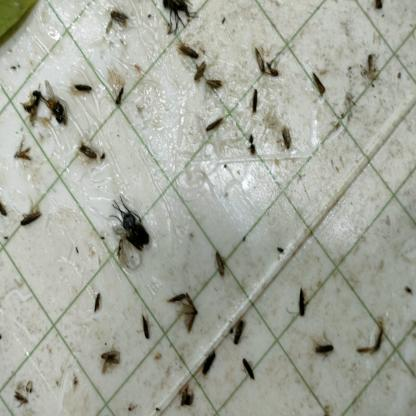prays_oleae: (95, 340, 133, 390), (41, 77, 68, 138), (162, 1, 205, 32), (14, 76, 43, 117), (364, 323, 393, 364), (181, 292, 202, 333), (168, 381, 196, 410), (78, 138, 102, 171), (73, 72, 95, 106), (137, 310, 155, 348), (203, 114, 231, 136), (110, 74, 126, 112), (312, 340, 337, 364), (311, 68, 328, 102), (108, 9, 133, 32), (11, 142, 33, 166), (20, 211, 46, 231), (294, 290, 312, 318), (180, 38, 200, 63), (214, 250, 229, 283), (276, 127, 291, 160), (206, 72, 225, 98), (230, 317, 246, 347), (167, 284, 191, 304), (200, 349, 218, 375), (252, 43, 266, 76), (239, 355, 256, 382), (0, 196, 11, 232), (188, 61, 209, 79), (248, 130, 258, 167), (95, 287, 106, 316), (268, 58, 280, 83), (9, 391, 28, 406), (251, 90, 262, 114)
